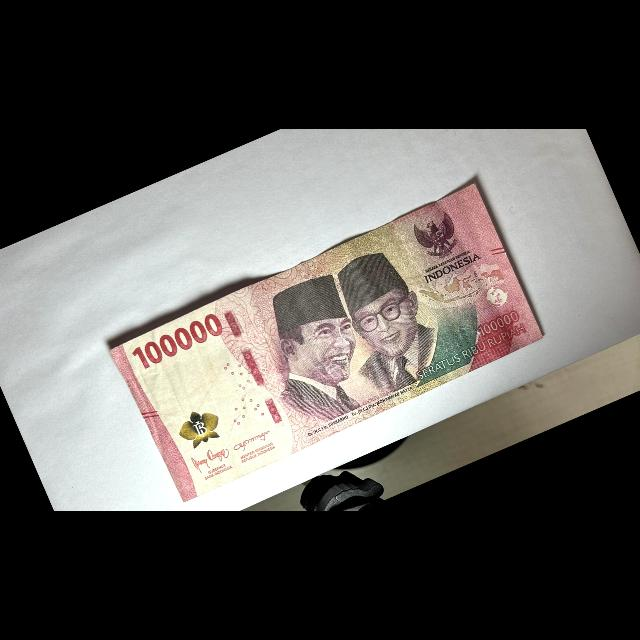Palsu-100k: (106, 178, 550, 510)
Tinta-Palsu-100k: (169, 401, 229, 456)
